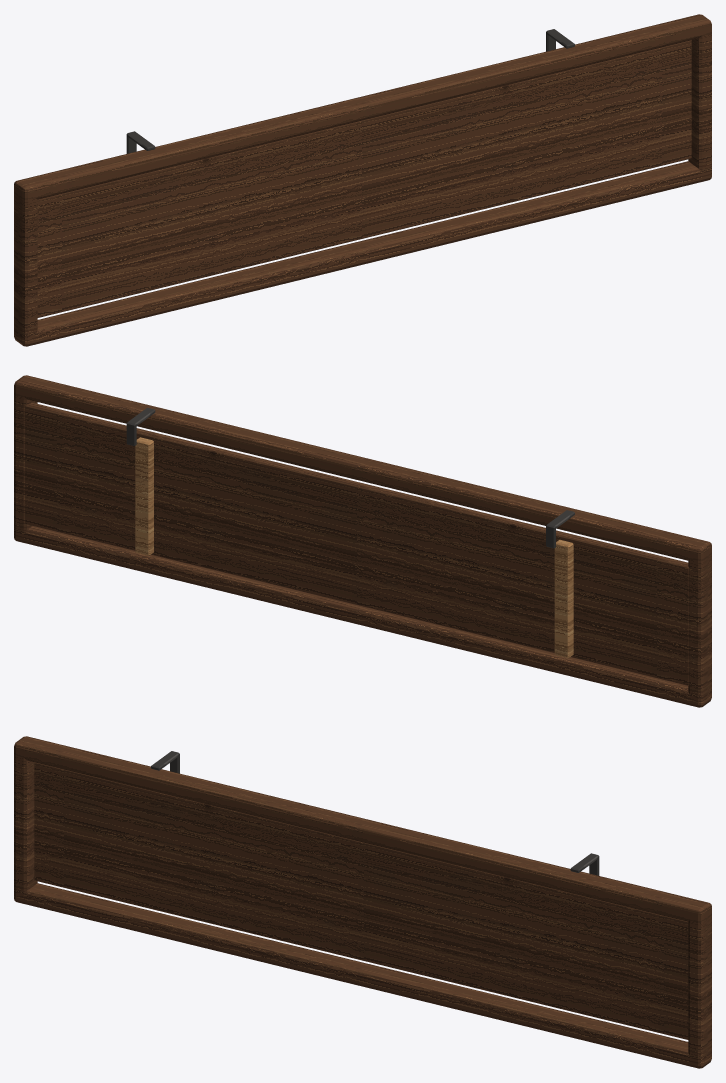
File: signboard.glb
3 renders of one model, top to bottom at view 1: azimuth 30°, elevation 25°; view 2: azimuth 150°, elevation 25°; view 3: azimuth 330°, elevation 25°, orthographic.
Parts seen in each view (by area): view 1: p; view 2: p; view 3: p.
Part boxes in pixels (<box>): p: <box>14,14,711,346</box>; p: <box>14,375,711,707</box>; p: <box>14,736,711,1068</box>.
Size of the model in its own units: 2.3 by 0.521 by 0.166.
Materials: 3 (3 with a texture image).
